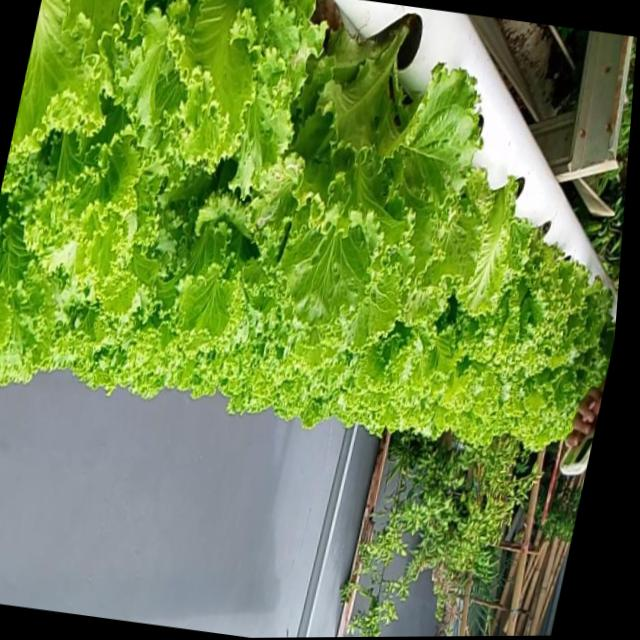Mature: (263, 6, 482, 337), (471, 209, 589, 374)
